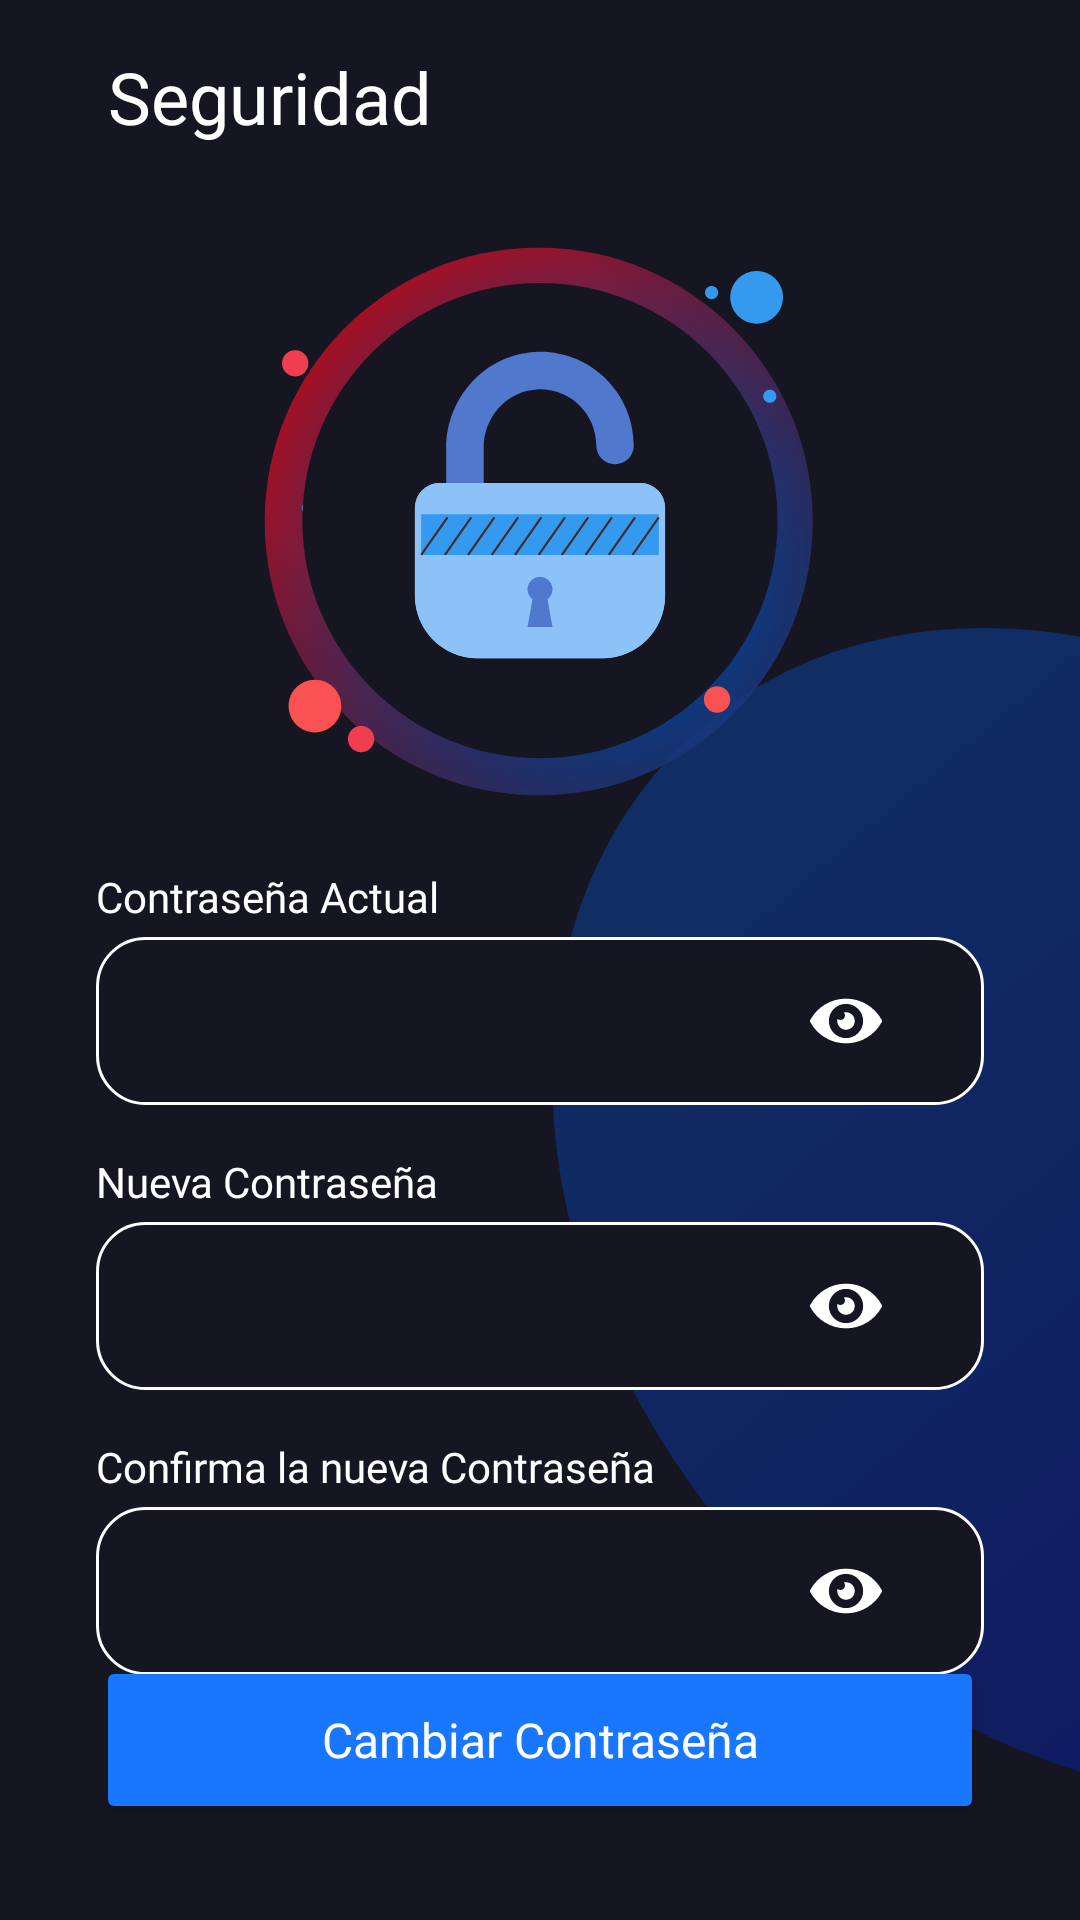

Screen size 1080px×1920px. Icon name, then its box in pixels as box=[x1, y1, x2, y2]:
ojo: box=[810, 998, 882, 1044], box=[810, 1283, 882, 1329], box=[810, 1568, 882, 1614]
